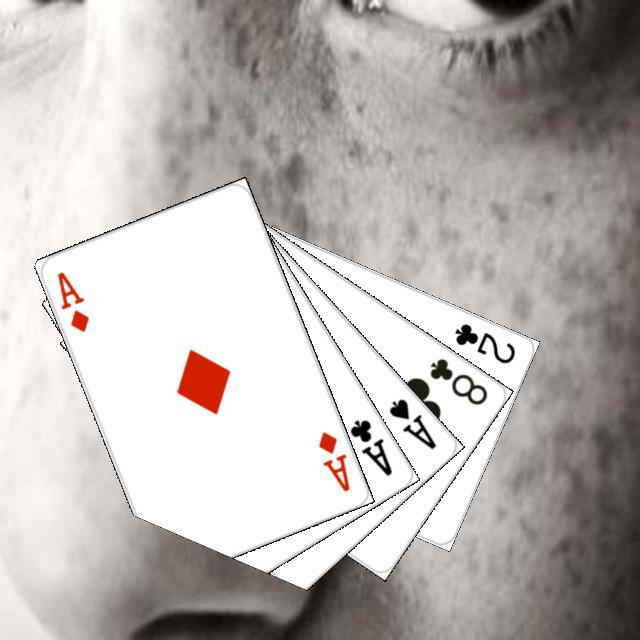2c: (449, 318, 517, 366)
8c: (424, 353, 490, 407)
Ac: (344, 414, 394, 478)
Ad: (313, 426, 352, 494), (52, 266, 91, 334)
As: (383, 393, 439, 452)
